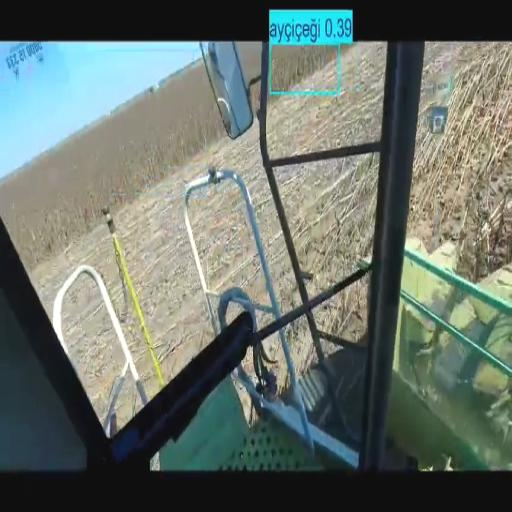ayc: (0, 61, 224, 267), (275, 47, 335, 87)
